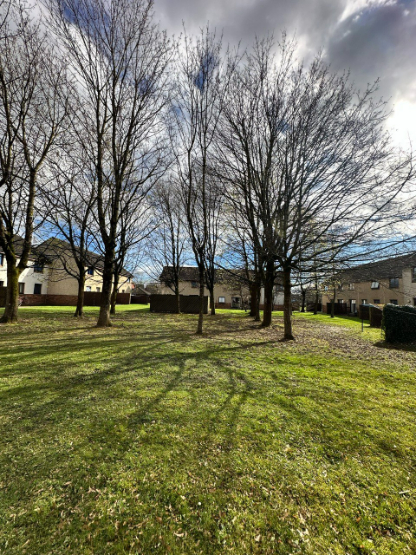tree: (240, 30, 368, 351), (69, 0, 169, 328), (0, 2, 74, 336), (167, 14, 230, 334)
